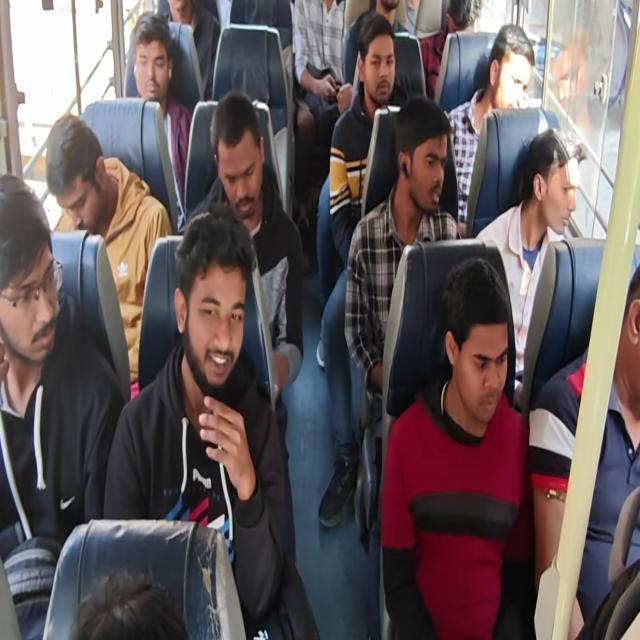person: (1, 1, 638, 638), (102, 202, 288, 637), (343, 94, 461, 637), (380, 256, 532, 638), (0, 178, 126, 638), (187, 89, 304, 566), (317, 12, 409, 528), (528, 262, 640, 638), (45, 113, 172, 400), (474, 126, 584, 409), (328, 12, 408, 268), (445, 22, 535, 229), (126, 11, 193, 225), (292, 0, 351, 231), (342, 0, 426, 101), (68, 569, 189, 639), (417, 0, 481, 99), (164, 0, 219, 99)
